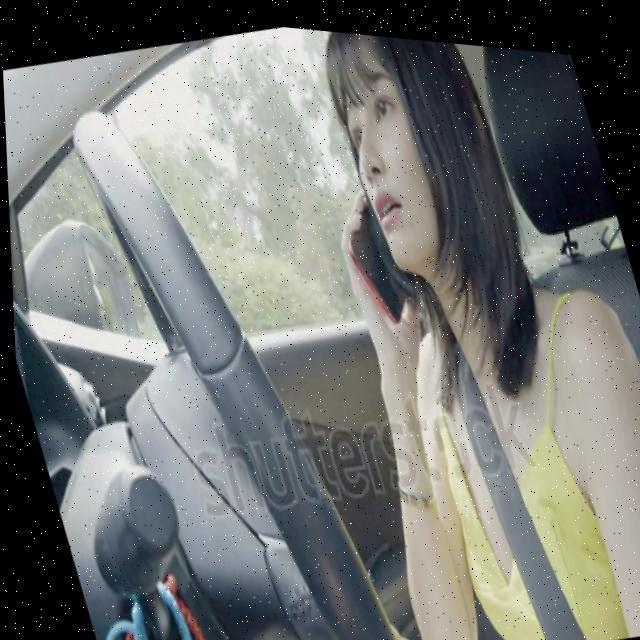PhoneCall: (328, 166, 424, 322)
